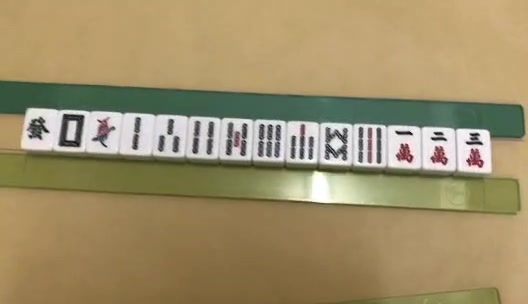1m: (394, 127, 415, 163)
1s: (92, 118, 114, 150)
2m: (430, 129, 451, 167)
2s: (130, 117, 143, 150)
3m: (464, 132, 485, 169)
3s: (156, 119, 179, 154)
4s: (192, 119, 215, 154)
5s: (224, 121, 250, 157)
5z: (58, 115, 84, 148)
6s: (256, 123, 283, 158)
6z: (28, 117, 49, 140)
7s: (289, 124, 315, 161)
8s: (322, 126, 350, 161)
9s: (356, 127, 384, 164)
